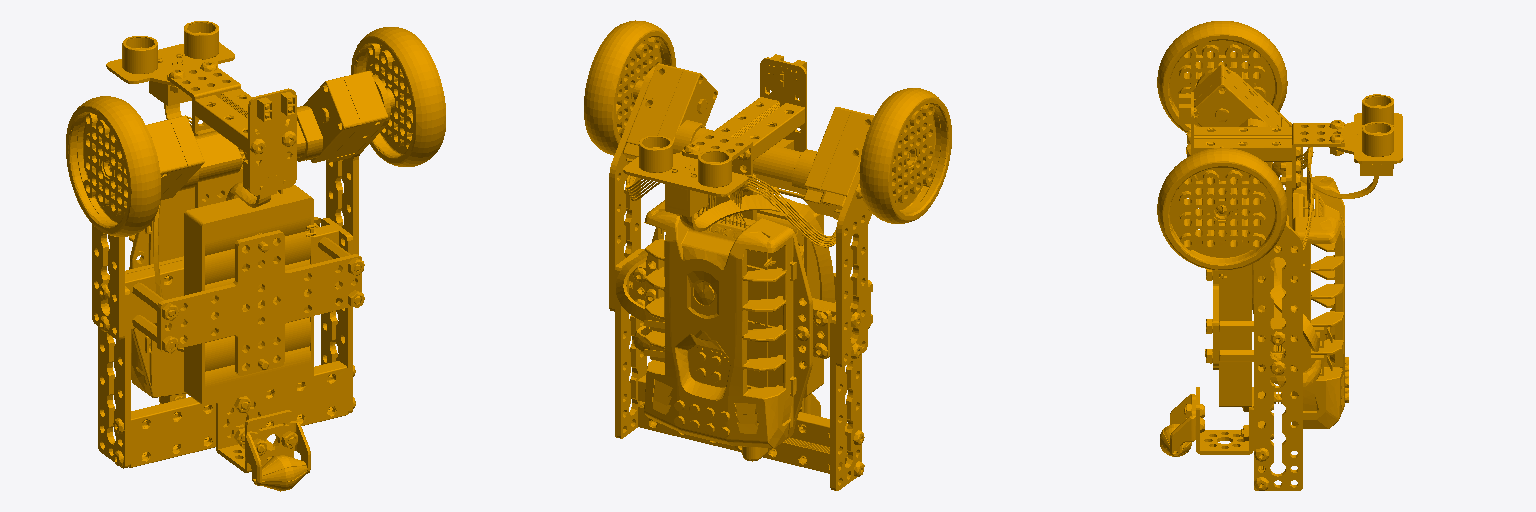
The robot description file, URDF, robot "mbot":
<?xml version="1.0"?>
<robot name="mbot">
  <link name="base_link">
    <visual>
      <geometry>
        <mesh filename="package://system_setup/CAD/3wheels.stl"/>
      </geometry>
    </visual>
  </link>

   <link name="lwheel">
    <visual>
      <geometry>
        <cylinder length="0.005" radius="0.016"/>
      </geometry>
      <origin rpy="0 1.5708 0" xyz="0 0 0"/>
      <material name="white">
        <color rgba="0 0 0 1"/>
      </material>
    </visual>
  </link>
  
  <joint name="base_to_lwheel" type="continuous">
    <parent link="base_link"/>
    <child link="lwheel"/>
    <origin xyz="0 0.08 0.016" rpy="0 0 1.5708"/>
  </joint>
  
  <link name="rwheel">
    <visual>
      <geometry>
        <cylinder length="0.005" radius="0.016"/>
      </geometry>
      <origin rpy="0 1.5708  0" xyz="0 0 0"/>
      <material name="white">
        <color rgba="0 0 0 1"/>
      </material>
    </visual>
  </link>
  
  <joint name="base_to_rwheel" type="continuous">
    <parent link="base_link"/>
    <child link="rwheel"/>
    <origin xyz="0 -0.08 0.016" rpy="0 0 -1.5708"/>
  </joint>

  <link name="laser">

    <visual>
        <origin xyz="0.0 0 0.0" rpy="0 0 0" />
        <geometry>
        <cylinder radius="0.03" length="0.01"/>
        </geometry>
        <material name="white" />
    </visual>
   
  </link>

  <joint name="joint_sensor_laser" type="fixed">
    <origin xyz="-0.0733551 -0.0160634 0.16" rpy="0 0 -0.0336378"/>
    <parent link="base_link"/>
    <child link="laser"/>
  </joint>

  <link name="imu"/>

  <joint name="joint_base_imu" type="fixed">
    <origin xyz="0.0 0.0 0.0" rpy="3.14159265359 0 0"/>
    <parent link="base_link"/>
    <child link="imu"/>
  </joint>
  
  
  
</robot>

--- Render facts (derived) ---
Views: 3 orthographic renders of the robot side by side, from view 1: azimuth 30°, elevation 25°; view 2: azimuth 150°, elevation 25°; view 3: azimuth 270°, elevation 25°.
Model mbot with 5 links and 4 joints (2 continuous, 2 fixed), rooted at base_link, posed all joints at 0.
Links seen in each view (by area): view 1: base_link; view 2: base_link; view 3: base_link.
Boxes of the visible links, x1=… form: base_link: x1=66, y1=21, x2=445, y2=491; base_link: x1=584, y1=20, x2=951, y2=490; base_link: x1=1157, y1=21, x2=1402, y2=490.
Bounding box of the posed robot: 163 × 120 × 199 m (x, y, z).
1 mesh visuals loaded from 1 distinct referenced files (1 binary STL).